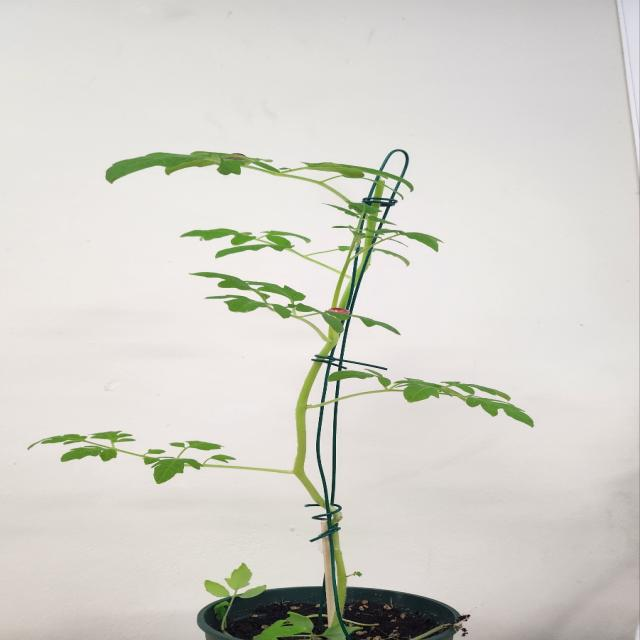bug: (221, 152, 260, 167), (324, 305, 356, 318)
